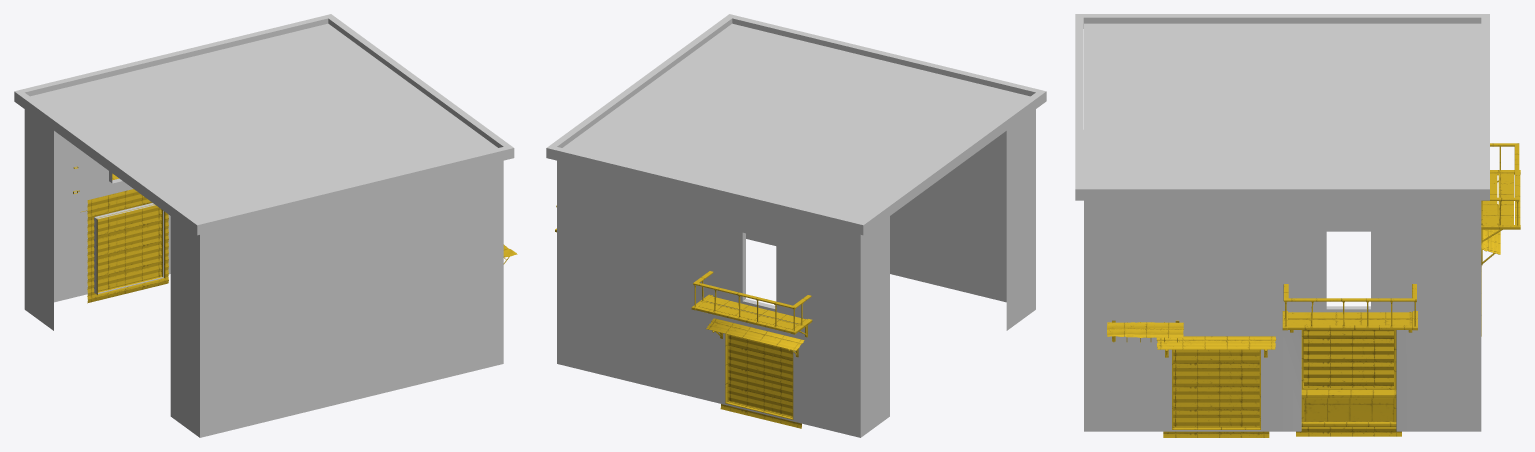
The model's file is HOTRUN_PIZZA_2.fbx.
The picture shows the model from 3 angles, left to right: view 1: azimuth 30°, elevation 25°; view 2: azimuth 150°, elevation 25°; view 3: azimuth 270°, elevation 25°; orthographic projection. The views are drawn at different scales.
Parts seen in each view (by area): view 1: 3*3.2368, 3*3.2370, 3*3.2369, 3*3.2371, 3*3.2510, 3*3.2511, 3*3.2680, 3*3.2357, 3*3.2354, 3*3.2356, 3*3.2353, 3*3.2351 (+18 smaller); view 2: 3*3.2378, 3*3.2349, 3*3.2368, 3*3.2512, 3*3.2348, 3*3.2513, 3*3.2355, 3*3.2357, 3*3.2354, 3*3.2358, 3*3.2351, 3*3.2352 (+20 smaller); view 3: 3*3.2363, 3*3.2377, 3*3.2364, 3*3.2374, 3*3.2352, 3*3.2355, 3*3.2350, 3*3.2351, 3*3.2353, 3*3.2354, 3*3.2365, 3*3.2361 (+21 smaller).
Boxes of the visible parts, bbox=[...] form: 3*3.2368: bbox=[250, 295, 351, 425]; 3*3.2370: bbox=[352, 270, 452, 400]; 3*3.2369: bbox=[250, 197, 351, 319]; 3*3.2371: bbox=[352, 173, 452, 294]; 3*3.2510: bbox=[170, 311, 250, 437]; 3*3.2511: bbox=[170, 216, 250, 331]; 3*3.2680: bbox=[87, 189, 168, 303]; 3*3.2357: bbox=[286, 66, 444, 133]; 3*3.2354: bbox=[184, 91, 343, 158]; 3*3.2356: bbox=[227, 23, 386, 90]; 3*3.2353: bbox=[126, 48, 284, 115]; 3*3.2351: bbox=[88, 116, 242, 181]; 3*3.2378: bbox=[607, 270, 708, 400]; 3*3.2349: bbox=[607, 173, 708, 294]; 3*3.2368: bbox=[890, 180, 985, 296]; 3*3.2512: bbox=[810, 311, 889, 437]; 3*3.2348: bbox=[708, 198, 809, 318]; 3*3.2513: bbox=[810, 216, 889, 331]; 3*3.2355: bbox=[775, 48, 934, 115]; 3*3.2357: bbox=[615, 66, 774, 133]; 3*3.2354: bbox=[717, 91, 875, 158]; 3*3.2358: bbox=[674, 23, 832, 90]; 3*3.2351: bbox=[818, 116, 971, 181]; 3*3.2352: bbox=[876, 73, 1030, 138]; 3*3.2363: bbox=[1150, 200, 1282, 311]; 3*3.2377: bbox=[1282, 200, 1414, 311]; 3*3.2364: bbox=[1415, 311, 1481, 431]; 3*3.2374: bbox=[1163, 349, 1269, 437]; 3*3.2352: bbox=[1084, 23, 1216, 79]; 3*3.2355: bbox=[1084, 79, 1216, 135]; 3*3.2350: bbox=[1349, 23, 1481, 79]; 3*3.2351: bbox=[1216, 23, 1348, 79]; 3*3.2353: bbox=[1349, 79, 1481, 135]; 3*3.2354: bbox=[1216, 79, 1348, 135]; 3*3.2365: bbox=[1415, 200, 1481, 311]; 3*3.2361: bbox=[1084, 200, 1149, 311].
Size of the model in its own units: 10.09 by 6.46 by 10.09.
